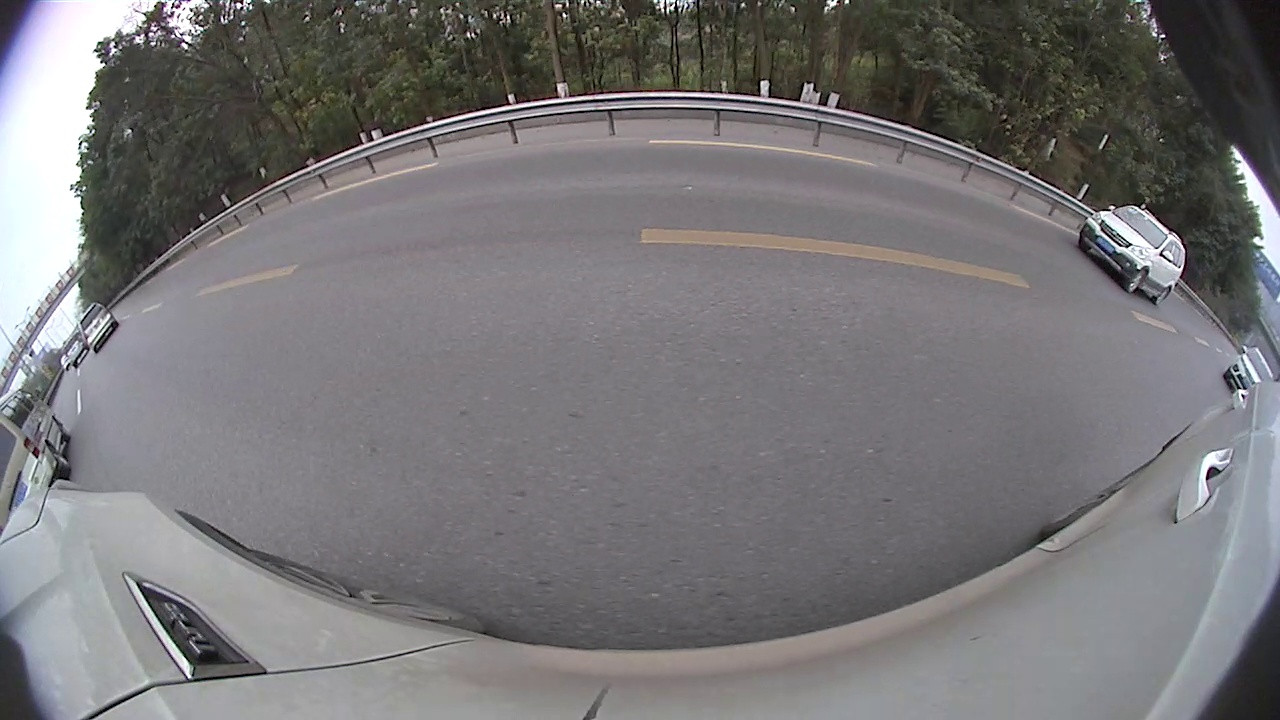car: (1077, 202, 1189, 307), (0, 387, 73, 541), (1222, 344, 1277, 395), (76, 300, 120, 356), (61, 333, 90, 368)
front: (1126, 270, 1146, 294)
rear: (47, 445, 69, 470), (1153, 287, 1170, 305)
